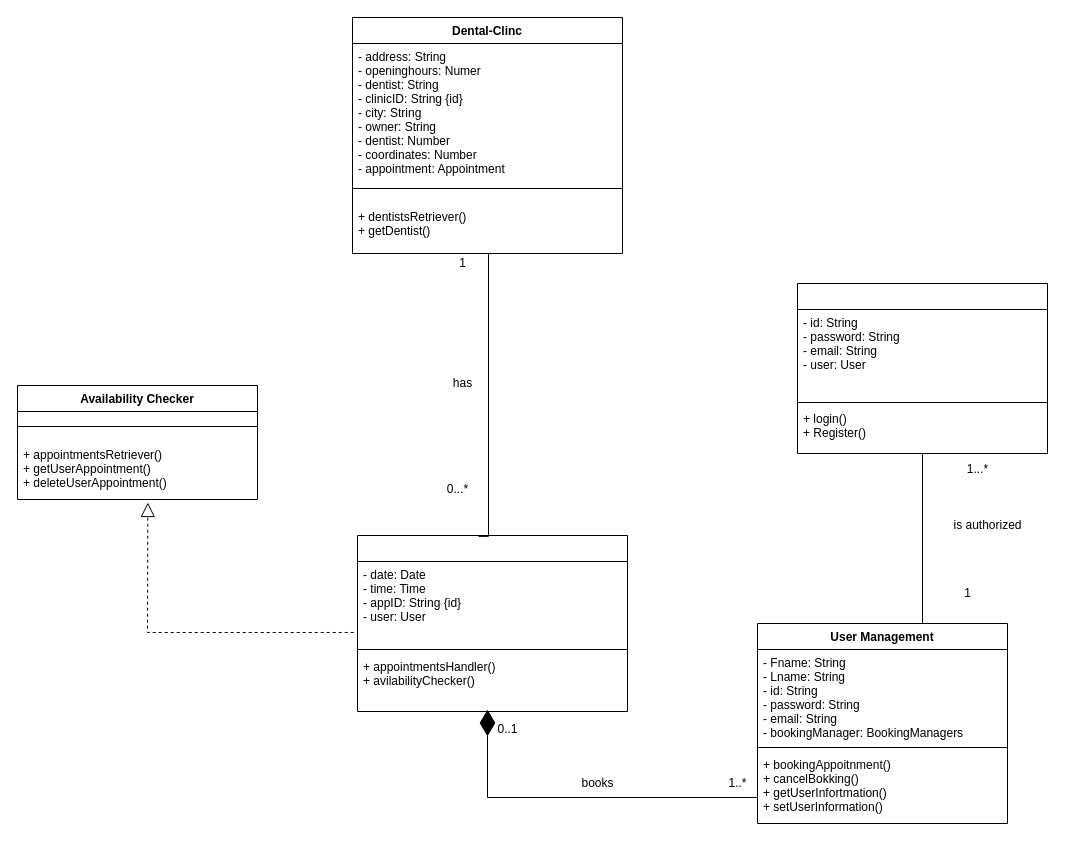
This 1065x844 diagram has some shape labels left out. The shapes that lost their labels are listed below. From the top down, each one's box as (x1, y1, x2, y2) in pixels, then its label:
(796, 282, 1048, 454): Auhorization
(356, 534, 628, 712): BookingManager
